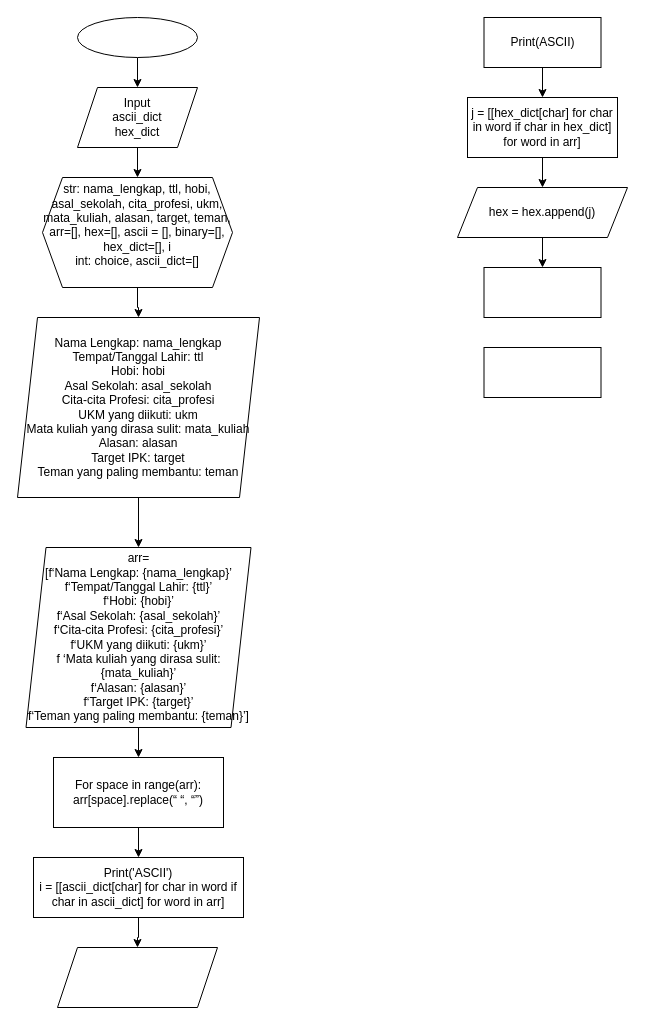
Some shapes in this 645 by 1025 pixel diagram are drawn without their labels. The centre of each missing label's shape, as x and y in pixels:
"ascii = ascii.append(i)" goes at point 137,977.
"Print('BINARY')" goes at point 542,372.
"Print(HEX)" goes at point 542,292.
"Start" goes at point 137,37.
